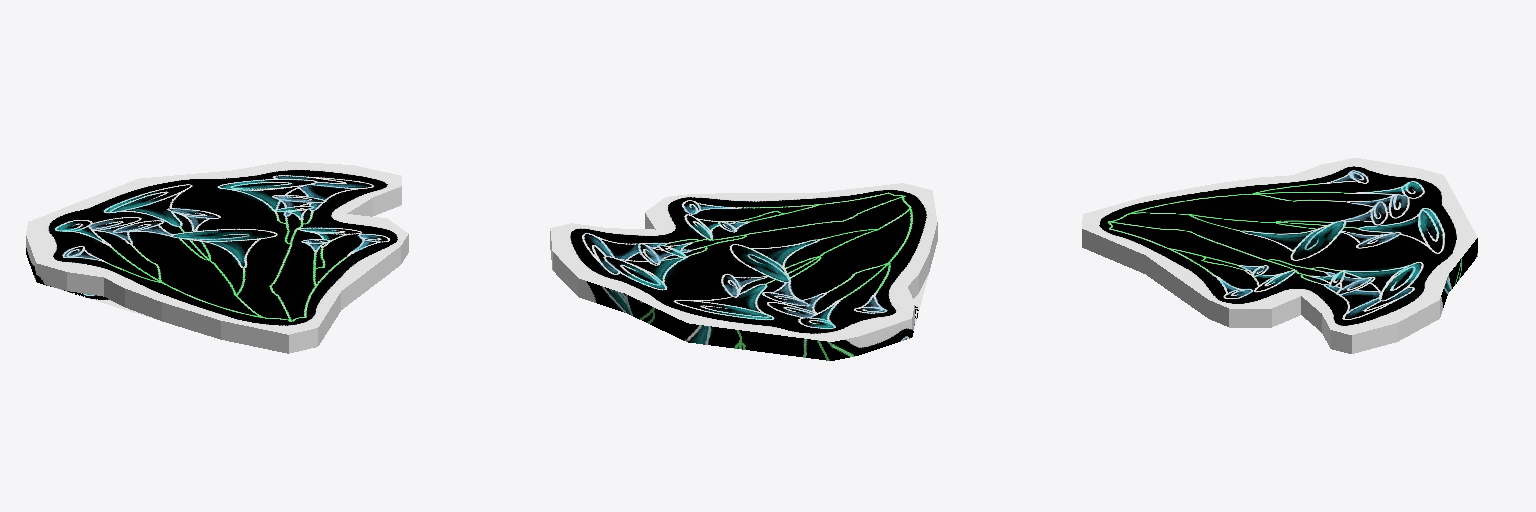
3 views of the same model, side by side, from view 1: azimuth 30°, elevation 25°; view 2: azimuth 150°, elevation 25°; view 3: azimuth 270°, elevation 25° (orthographic).
Parts seen in each view (by area): view 1: MeshBody1; view 2: MeshBody1; view 3: MeshBody1.
Part boxes in pixels (x1,y1,x2,y2): MeshBody1: (26,161,408,353); MeshBody1: (550,183,937,360); MeshBody1: (1082,158,1477,353).
Size of the model in its own units: 0.9989 by 0.05 by 0.94.
Materials: 1 (1 with a texture image).